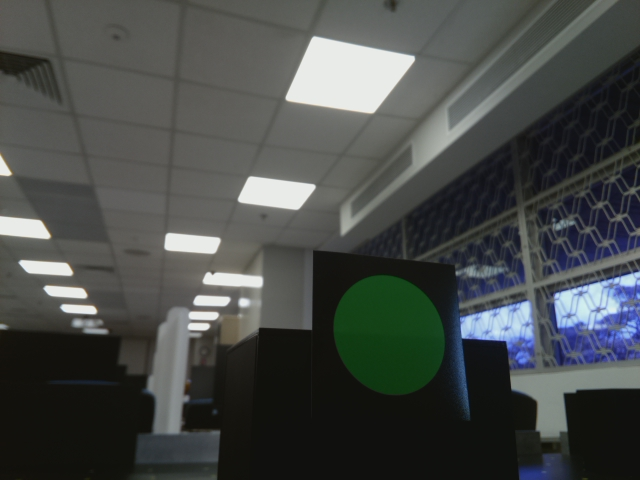go: (333, 268, 447, 402)
